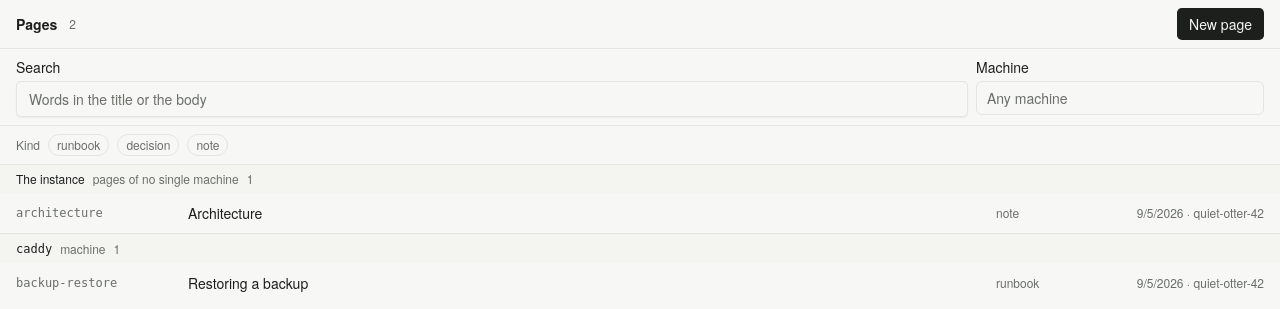
Scenario: narrows the wiki by kind, out of the URL
Click the button "runbook". click: coordinates (79, 145)
box: [48,134,109,156]
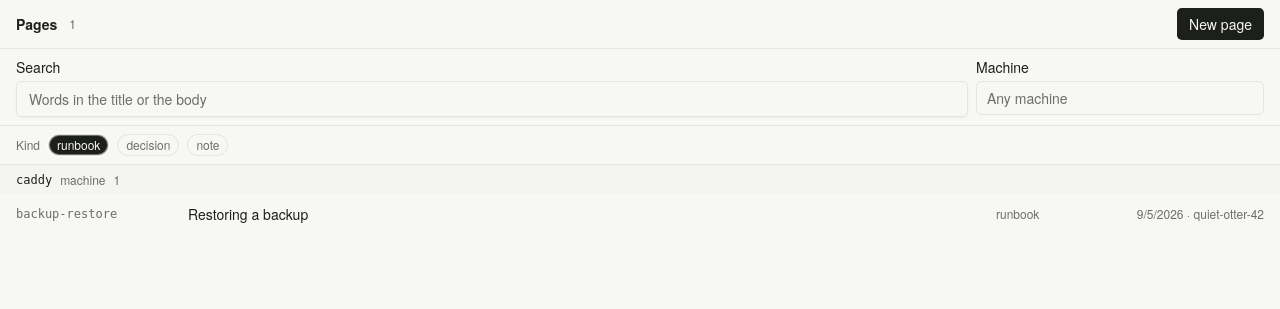
Now the link "architecture" is gone
